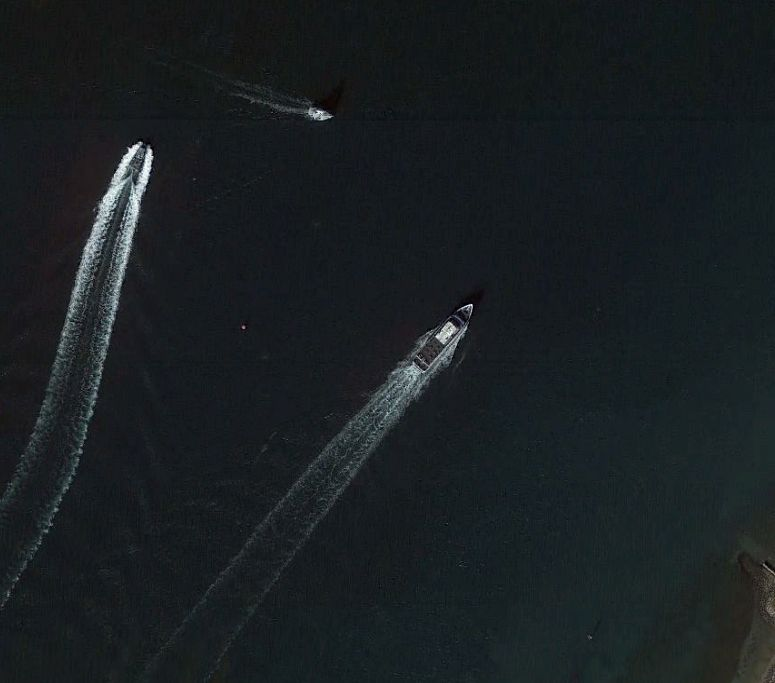boat: (408, 298, 481, 380), (118, 138, 156, 192), (299, 101, 339, 127)
